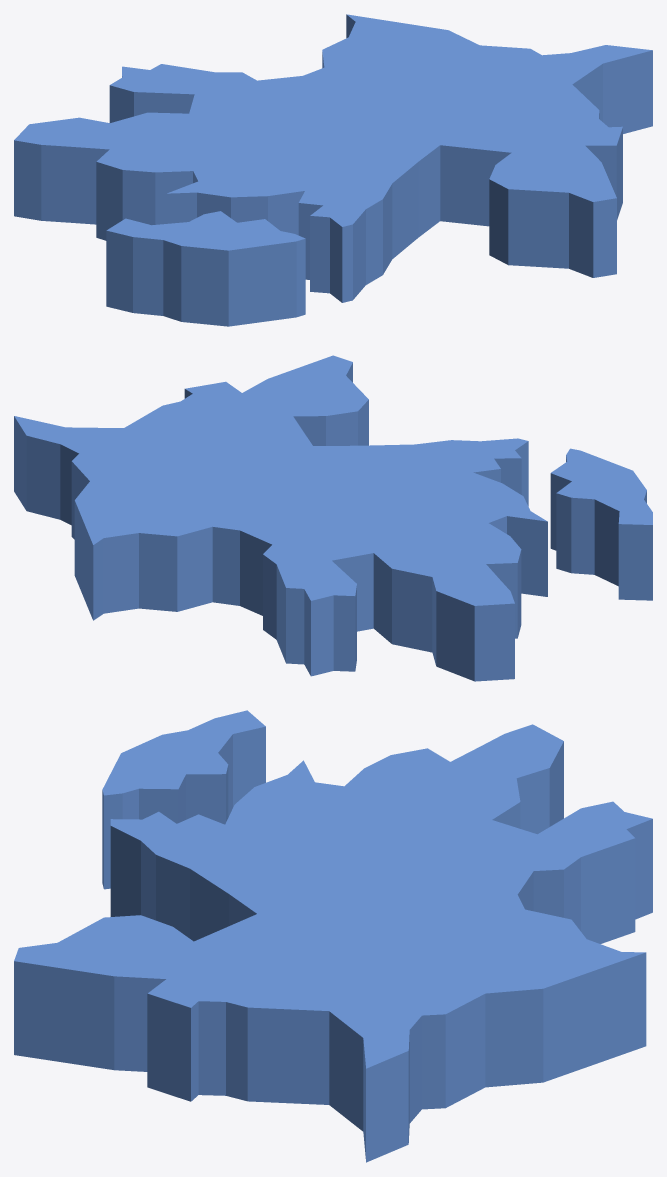
Rendered from Azerbaijan.fbx.
The picture shows the model from 3 angles, top to bottom: view 1: azimuth 30°, elevation 25°; view 2: azimuth 150°, elevation 25°; view 3: azimuth 270°, elevation 25°; orthographic projection. The views are drawn at different scales.
Parts seen in each view (by area): view 1: Azerbaijan; view 2: Azerbaijan; view 3: Azerbaijan.
Boxes of the visible parts, x1,y1,x2,y2 form: Azerbaijan: (14, 14, 652, 326); Azerbaijan: (14, 355, 652, 681); Azerbaijan: (14, 710, 652, 1162).
Bounding box in the file's own units: 10.72 × 1.31 × 8.08.
